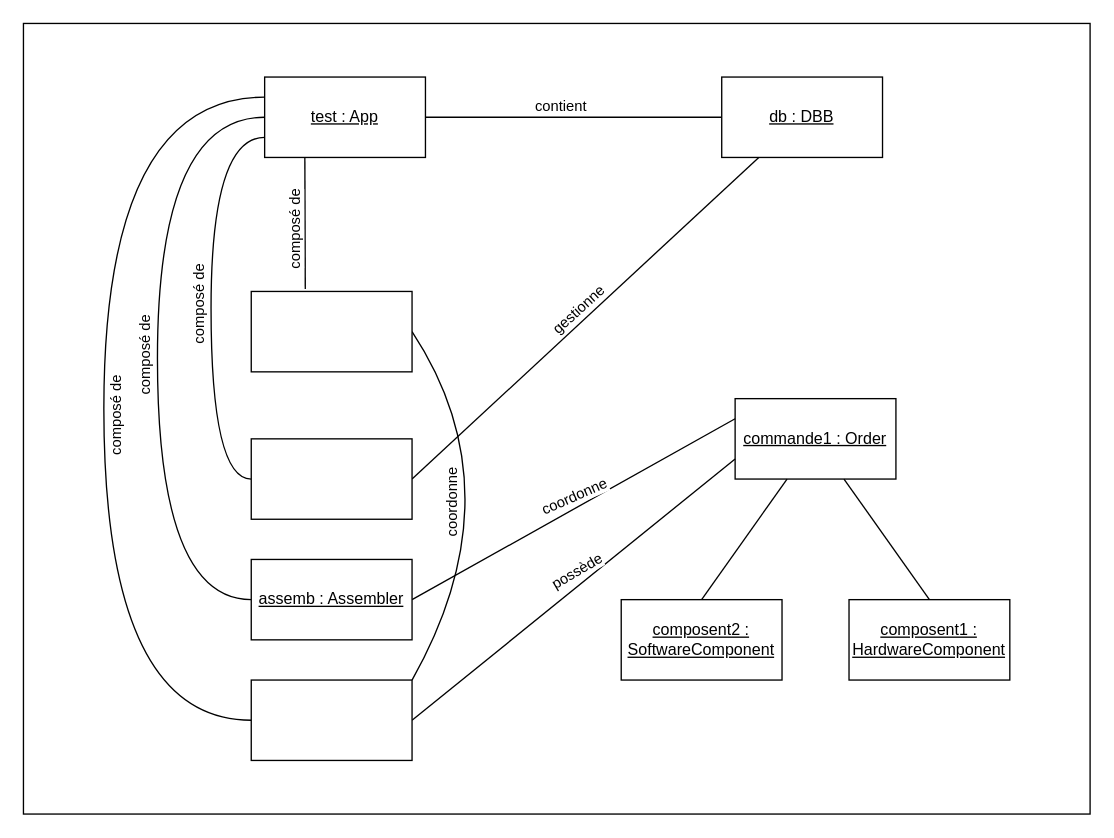
The diagram is 1114 pixels wide and 838 high, and some of its shapes have lost their labels. The centre of each missing label's shape, as x and y in pixels:
"admin : Administrator" goes at [331,331].
"client1 : Requester" goes at [331,719].
"stockKeep : StockKeeper" goes at [331,478].
